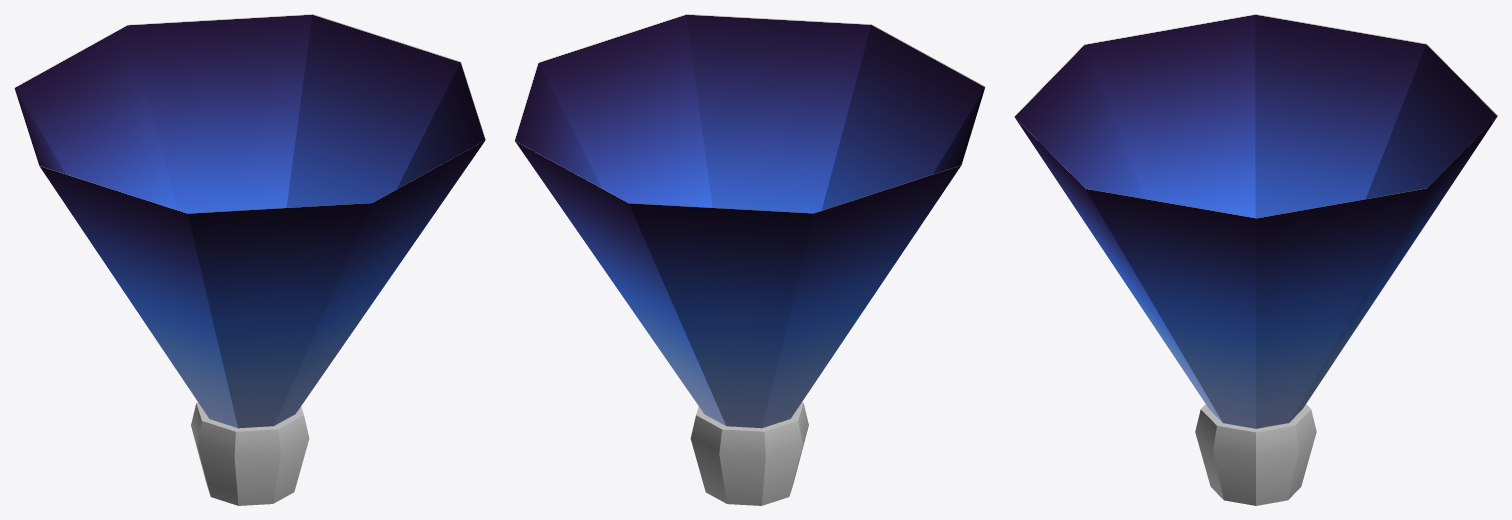
File: light.fbx
3 views of the same model, side by side, from view 1: azimuth 30°, elevation 25°; view 2: azimuth 150°, elevation 25°; view 3: azimuth 270°, elevation 25° (orthographic).
Parts seen in each view (by area): view 1: scaffold_2.005; view 2: scaffold_2.005; view 3: scaffold_2.005.
Boxes of the visible parts, x1,y1,x2,y2 form: scaffold_2.005: (14, 14, 485, 505); scaffold_2.005: (514, 14, 985, 505); scaffold_2.005: (1014, 14, 1497, 505).
Size of the model in its own units: 1188 by 1004 by 1188.
